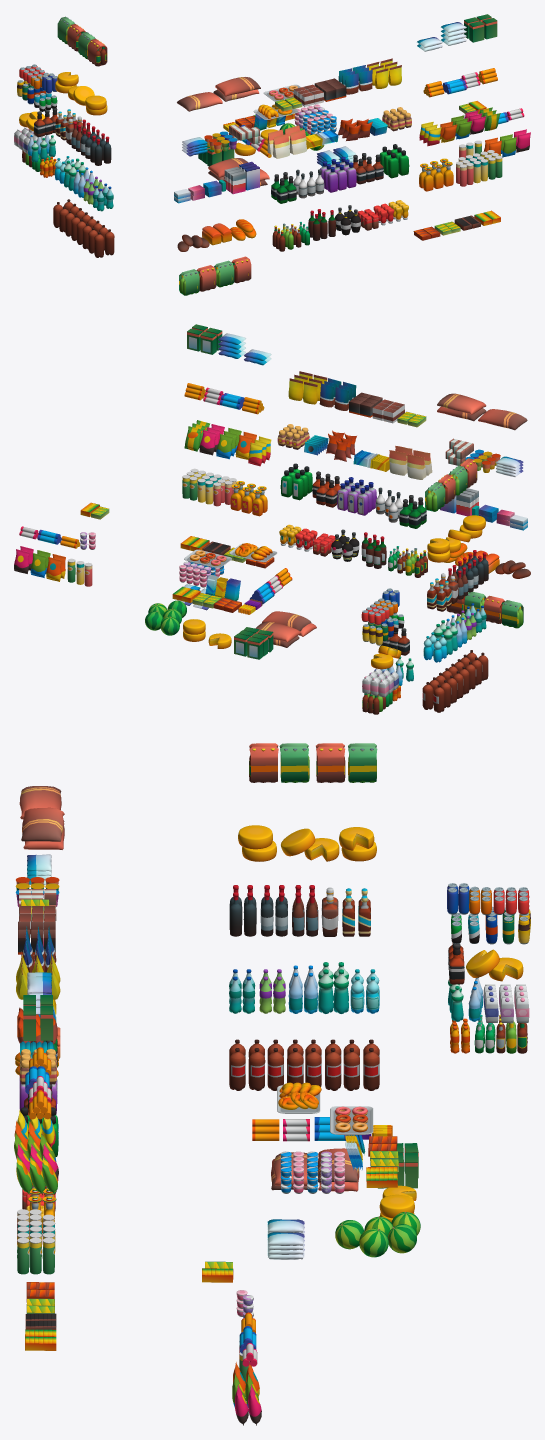
File: pilmi-deli-items.glb
3 views of the same model, one above another, from view 1: azimuth 30°, elevation 25°; view 2: azimuth 150°, elevation 25°; view 3: azimuth 270°, elevation 25° (orthographic). The views are drawn at different scales.
Visible parts, largest first — view 1: item-69-03, item-69-02, item-69-07, item-84-04, item-84-02, item-89-02, item-89-01, item-90-01, item-90-04; view 2: item-69-02, item-69-03, item-69-05, item-69-07; view 3: item-69-03, item-89-03, item-90-03, item-89-04, item-90-02, item-69-02.
Boxes of the visible parts, <box> form: item-69-03: <box>215,77,260,96</box>; item-69-02: <box>177,92,222,111</box>; item-69-07: <box>208,158,247,177</box>; item-84-04: <box>289,129,306,154</box>; item-84-02: <box>273,133,289,158</box>; item-89-02: <box>179,269,199,295</box>; item-89-01: <box>214,260,234,286</box>; item-90-01: <box>196,265,216,291</box>; item-90-04: <box>231,256,251,282</box>; item-69-02: <box>478,409,527,430</box>; item-69-03: <box>437,393,486,414</box>; item-69-05: <box>262,611,311,631</box>; item-69-07: <box>255,621,301,642</box>; item-69-03: <box>21,807,64,841</box>; item-89-03: <box>279,743,308,782</box>; item-90-03: <box>316,743,345,782</box>; item-89-04: <box>348,743,377,782</box>; item-90-02: <box>249,743,278,782</box>; item-69-02: <box>19,786,61,819</box>.
Size of the model in its own units: 6.97 by 3.16 by 4.33.
Materials: 1 (1 with a texture image).
